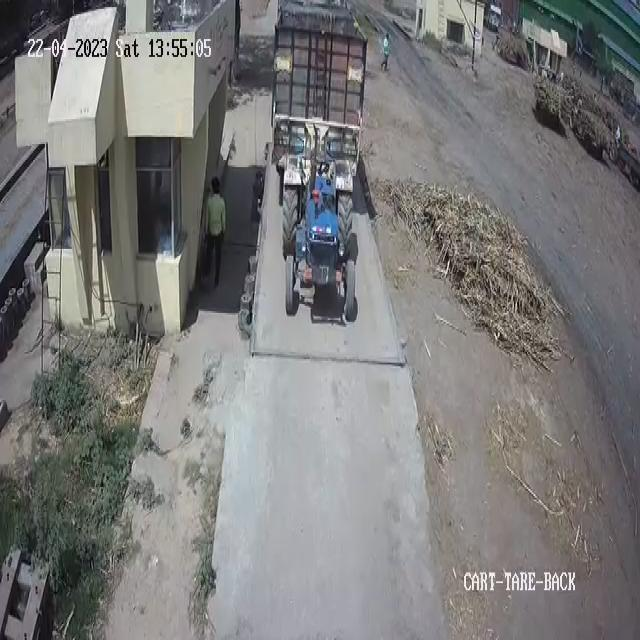Tratores - v5 YOLO V8L 2024-11-13: (278, 163, 361, 334)
